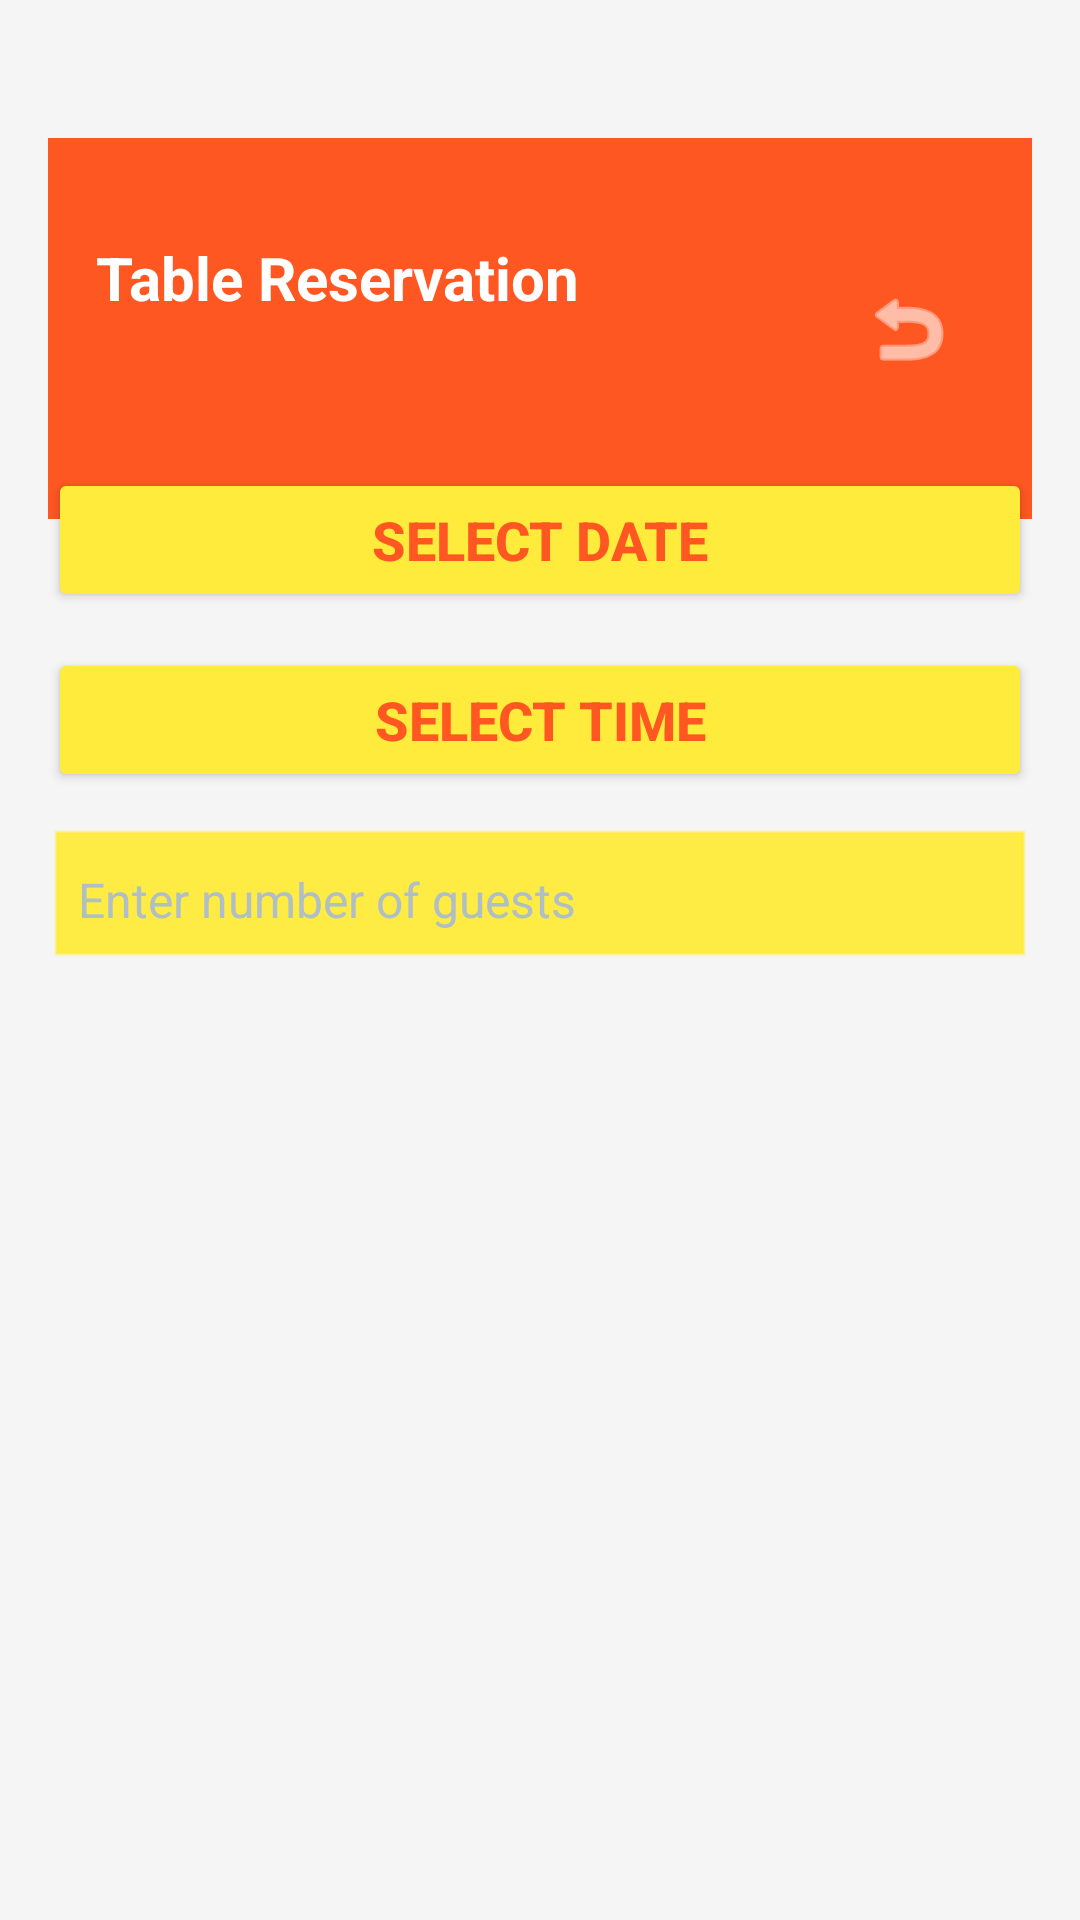

Icon click points for this 1080*1920 phone screenshot, format (x=x, y=y):
revert: (x=909, y=329)
